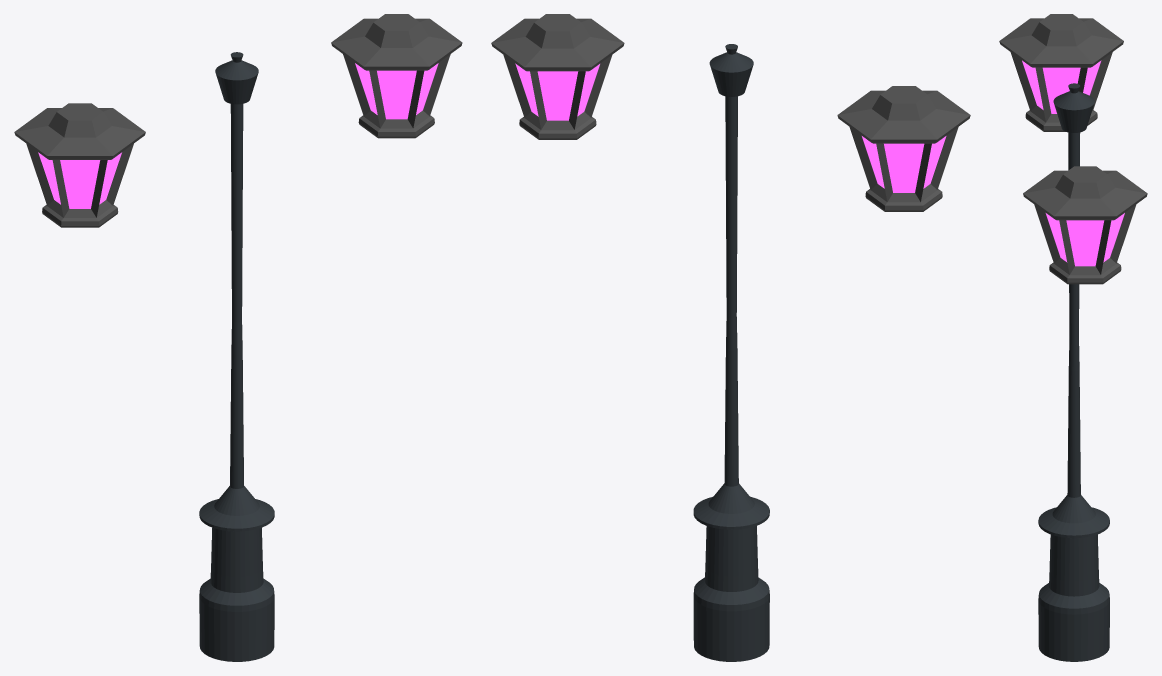
The model's file is Streetlamp.fbx.
The picture shows the model from 3 angles, left to right: view 1: azimuth 30°, elevation 25°; view 2: azimuth 150°, elevation 25°; view 3: azimuth 270°, elevation 25°; orthographic projection. The views are drawn at different scales.
Parts seen in each view (by area): view 1: Cylinder, Sphere.003, Sphere.001; view 2: Cylinder, Sphere.003, Sphere.001; view 3: Cylinder, Sphere.003, Sphere.001.
Part boxes in pixels (<box>): Cylinder: <box>199,52,274,661</box>; Sphere.003: <box>331,14,462,138</box>; Sphere.001: <box>14,103,145,227</box>; Cylinder: <box>693,44,769,661</box>; Sphere.003: <box>491,14,624,139</box>; Sphere.001: <box>837,86,970,211</box>; Cylinder: <box>1038,83,1109,661</box>; Sphere.003: <box>1023,166,1147,284</box>; Sphere.001: <box>999,14,1123,131</box>.
Bounding box in the file's own units: 374 × 494 × 118.
